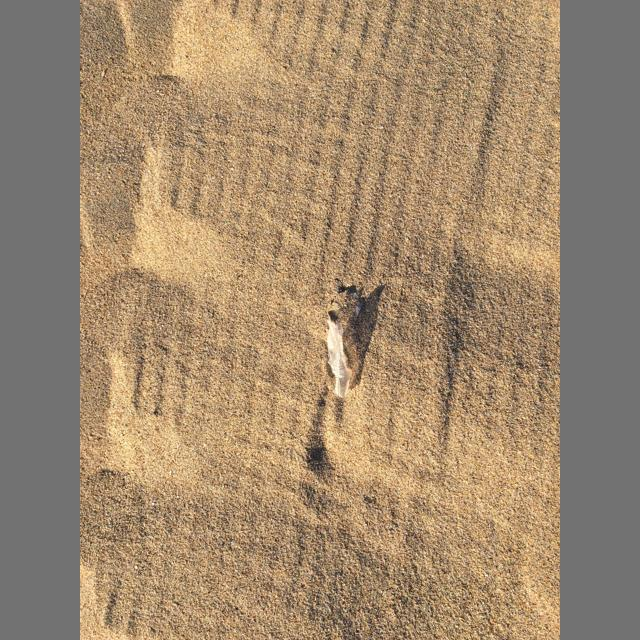litter: (326, 312, 352, 398)
